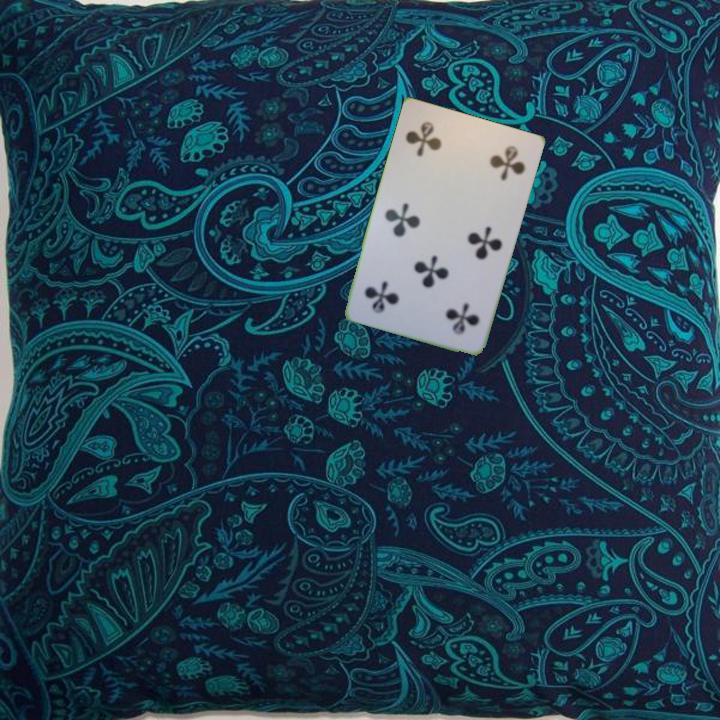c_7.png: (411, 273, 491, 346), (396, 109, 475, 182)
